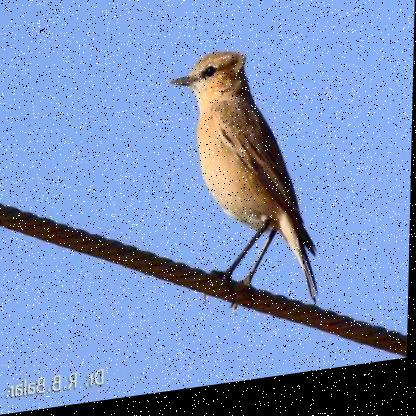Burung: (165, 41, 330, 333)
